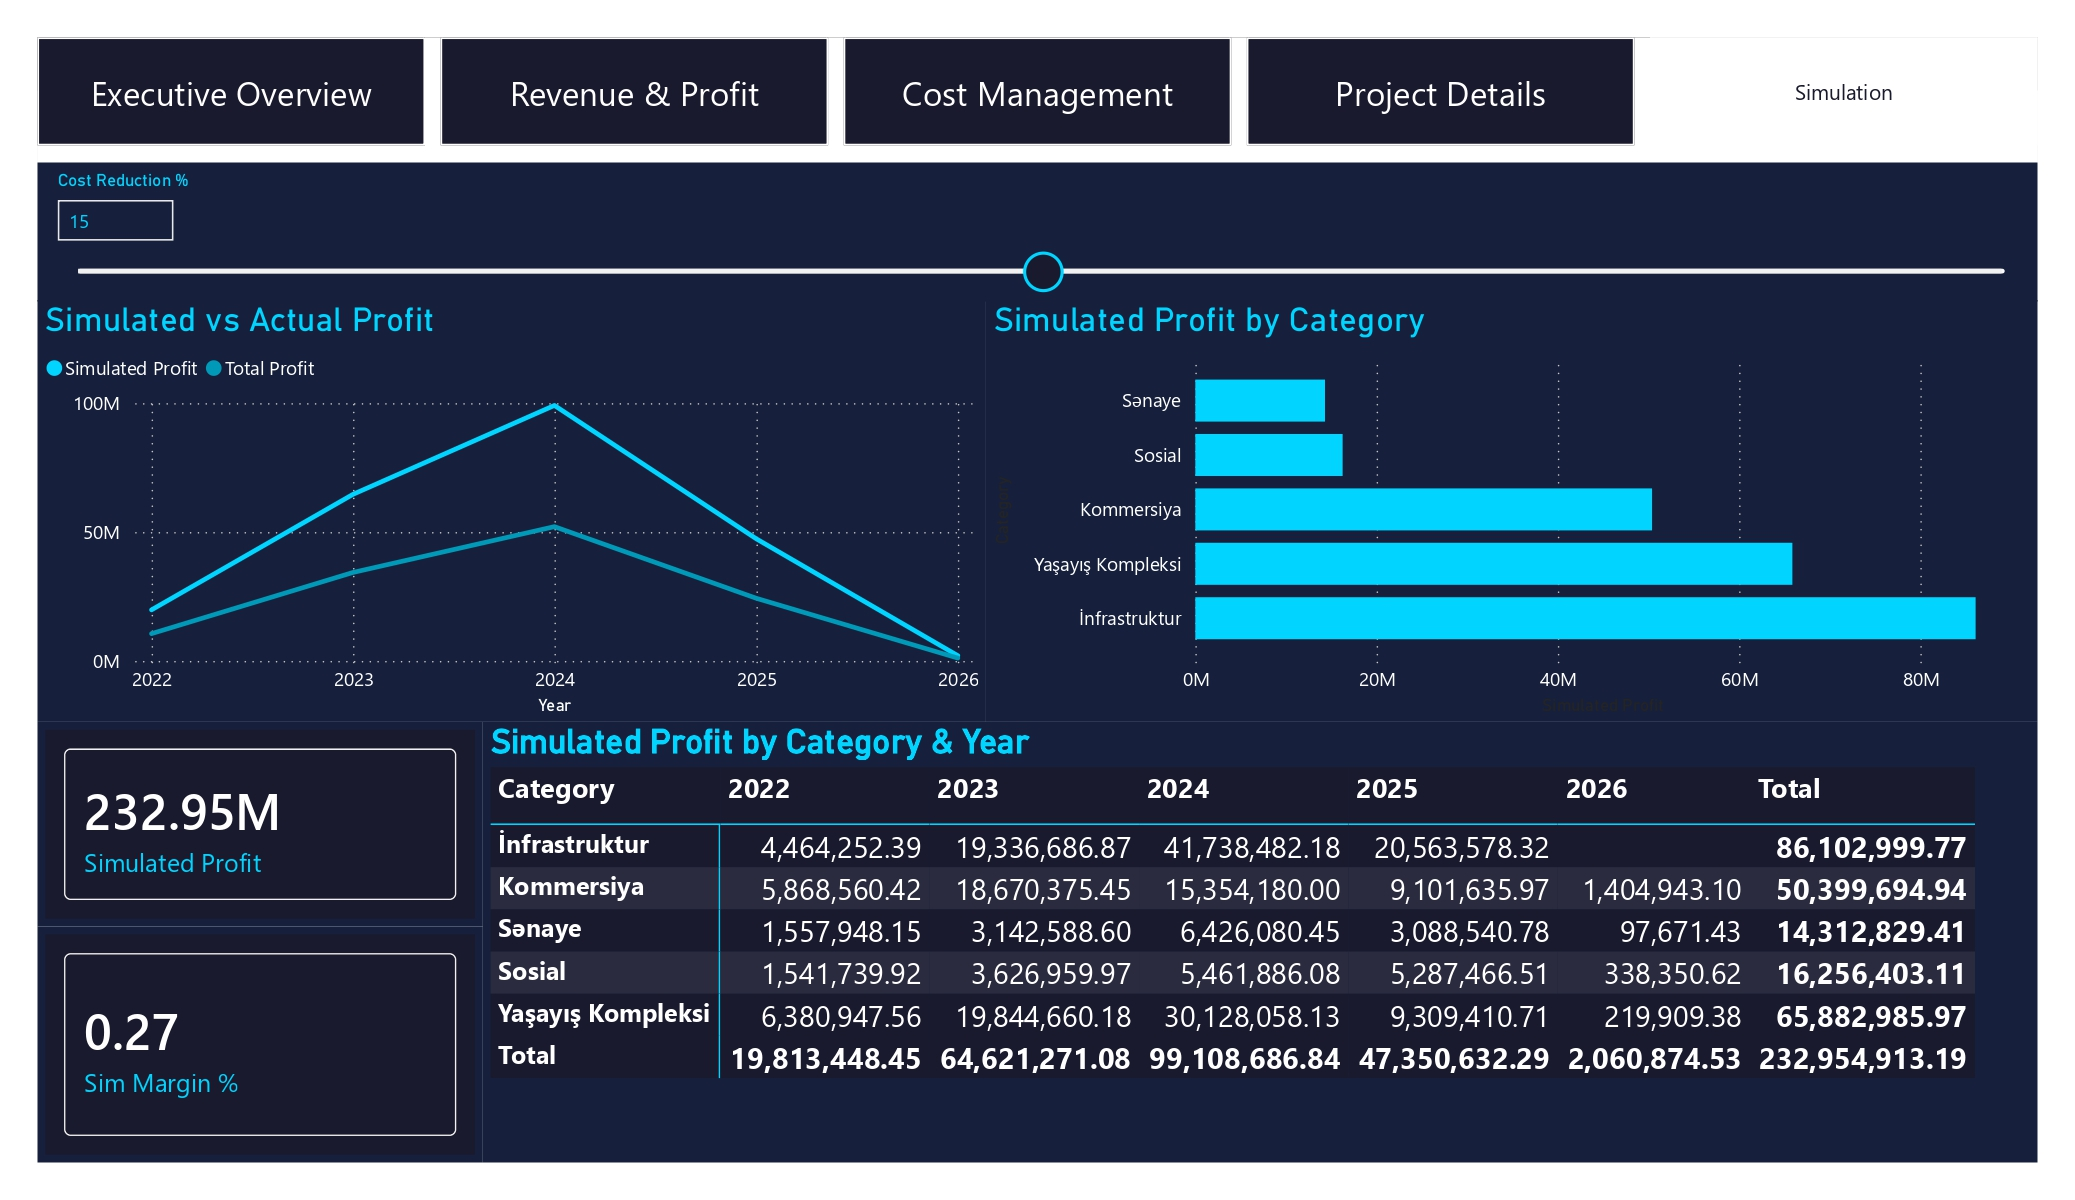

The dashboard page shown, as its layout file describes it:
{"tool":"powerbi","page":{"name":"Simulation","canvas":[1280,720],"ordinal":4},"visuals":[{"type":"pageNavigator","box":[0,0,1280,68.9],"z":0},{"type":"slicer","fields":{"Values":["Cost Reduction %.Cost Reduction %"]},"box":[0,80,1280,88.6],"z":1000},{"type":"cardVisual","fields":{"Data":["_Measures.Simulated Profit"]},"box":[0,437.6,285.4,131.7],"z":2000},{"type":"cardVisual","fields":{"Data":["_Measures.Sim Margin %"]},"box":[0,569.3,285.4,150.7],"z":3000},{"type":"lineChart","title":"Simulated vs Actual Profit","fields":{"Category":["fact_financials.Date.Variation.Date Hierarchy.Year"],"Y":["_Measures.Simulated Profit","_Measures.Total Profit"]},"box":[0,168.3,607.3,269.3],"z":4000},{"type":"clusteredBarChart","fields":{"Category":["dim_projects_v2.Category"],"Y":["_Measures.Simulated Profit"]},"box":[607.3,168.3,673.2,269.3],"z":5000},{"type":"pivotTable","title":"Simulated Profit by Category & Year","fields":{"Rows":["dim_projects_v2.Category"],"Columns":["fact_financials.Date.Variation.Date Hierarchy.Year"],"Values":["_Measures.Simulated Profit"]},"box":[285,438.3,995,281.7],"z":6000}]}

Visuals, with their boxes on the page's 1280x720 design canvas (x1, y1, x2, y2). These are canvas units, not pixel positions in the 2075x1200 screenshot, which may show the page scaled, cropped or inside an application window:
pageNavigator: 0/0/1280/69
slicer - Cost Reduction %.Cost Reduction %: 0/80/1280/169
cardVisual - _Measures.Simulated Profit: 0/438/285/569
cardVisual - _Measures.Sim Margin %: 0/569/285/720
"Simulated vs Actual Profit" lineChart: 0/168/607/438
clusteredBarChart - dim_projects_v2.Category x _Measures.Simulated Profit: 607/168/1280/438
"Simulated Profit by Category & Year" pivotTable: 285/438/1280/720
